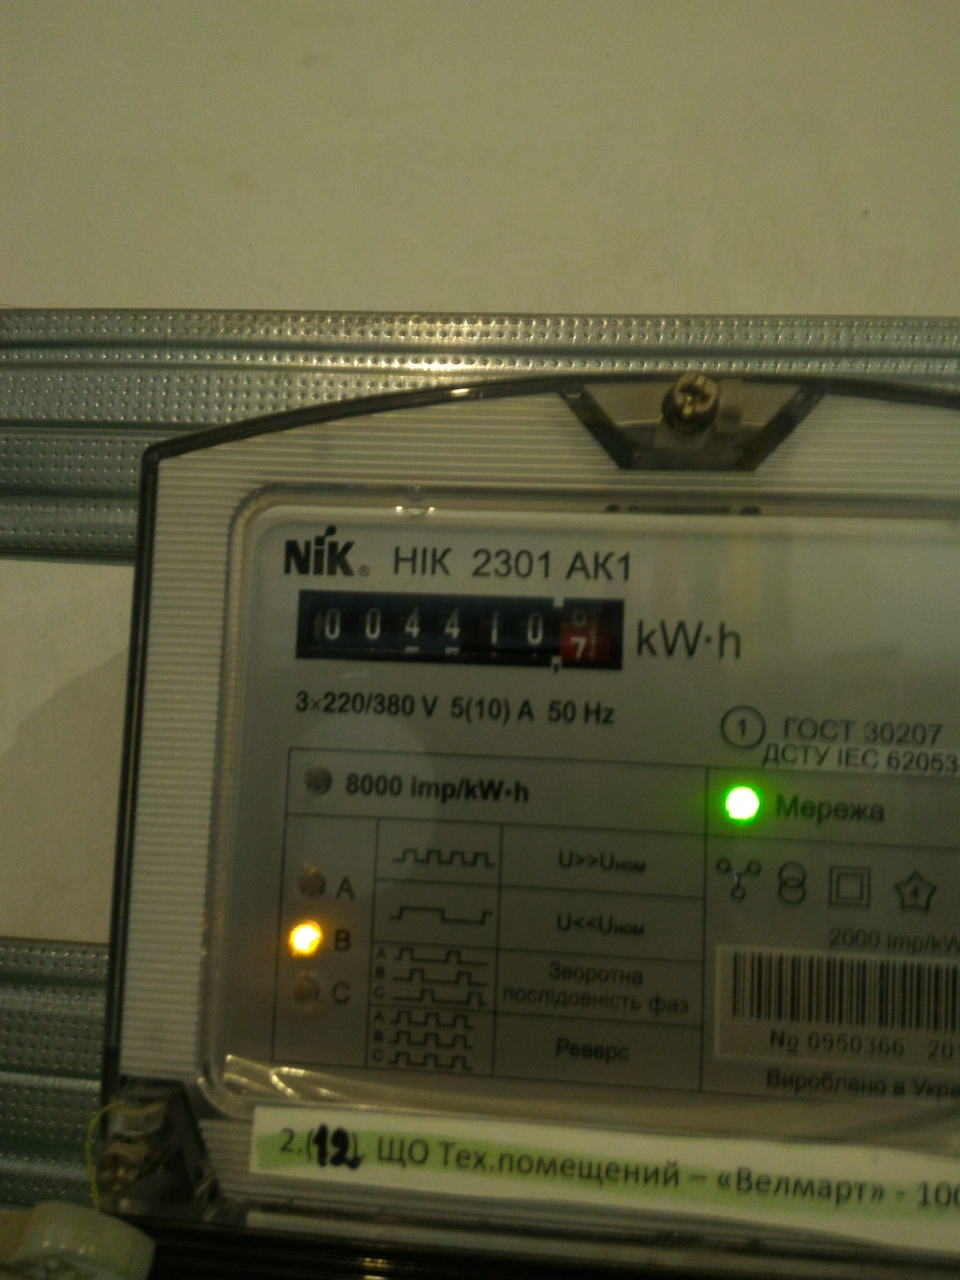0: (523, 608, 546, 649), (361, 605, 384, 643), (321, 605, 342, 642)
1: (487, 609, 502, 646)
4: (442, 605, 462, 641), (402, 604, 422, 641)
7: (567, 632, 590, 663)
screen: (282, 577, 640, 685)
x: (569, 601, 590, 629)
